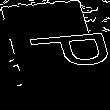P_E: (3, 33, 107, 77)
